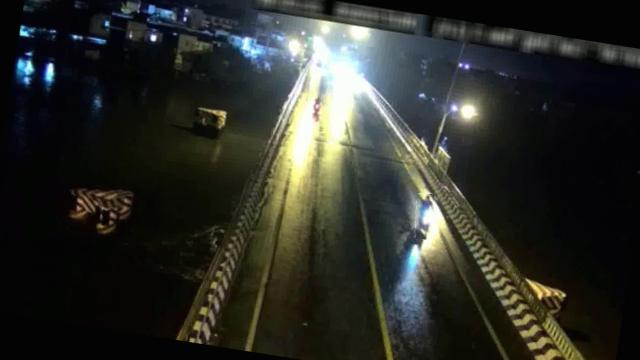Bike: (411, 192, 438, 242), (313, 95, 322, 116)
